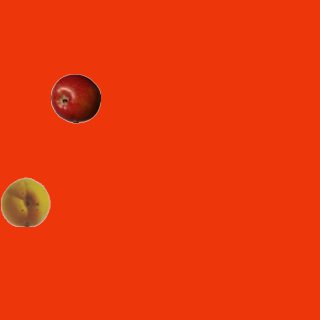Apple Braeburn: (50, 73, 100, 123)
Peach 2: (0, 176, 50, 226)
